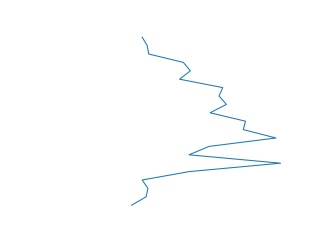floodSwamp: (127, 36, 283, 206)
